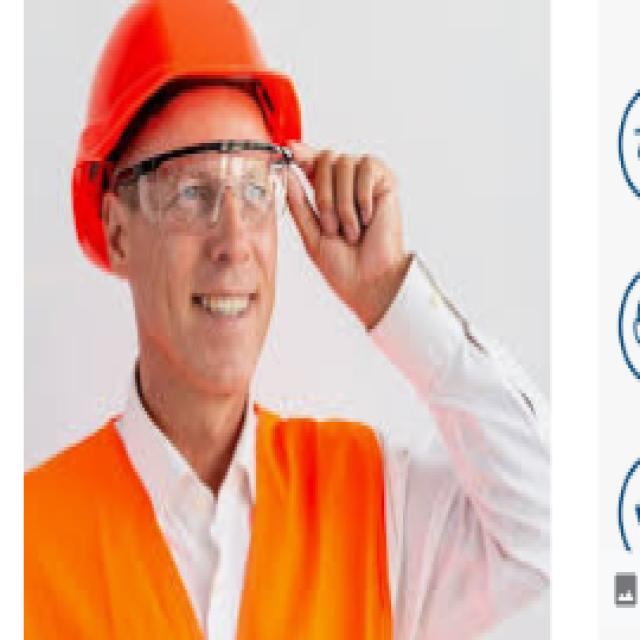glasses: (99, 126, 292, 228)
